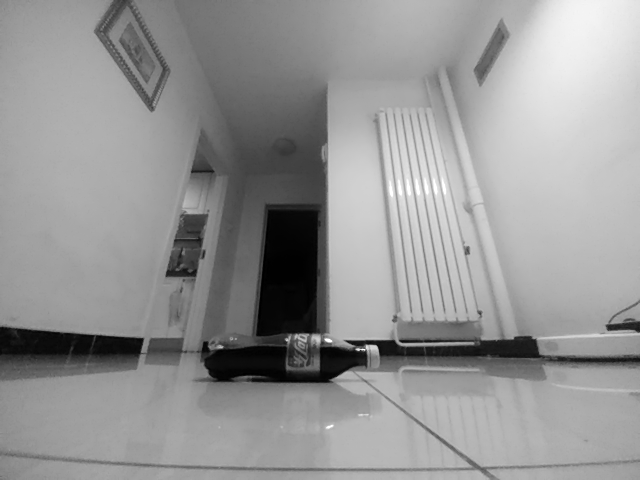others: (203, 332, 381, 385)
